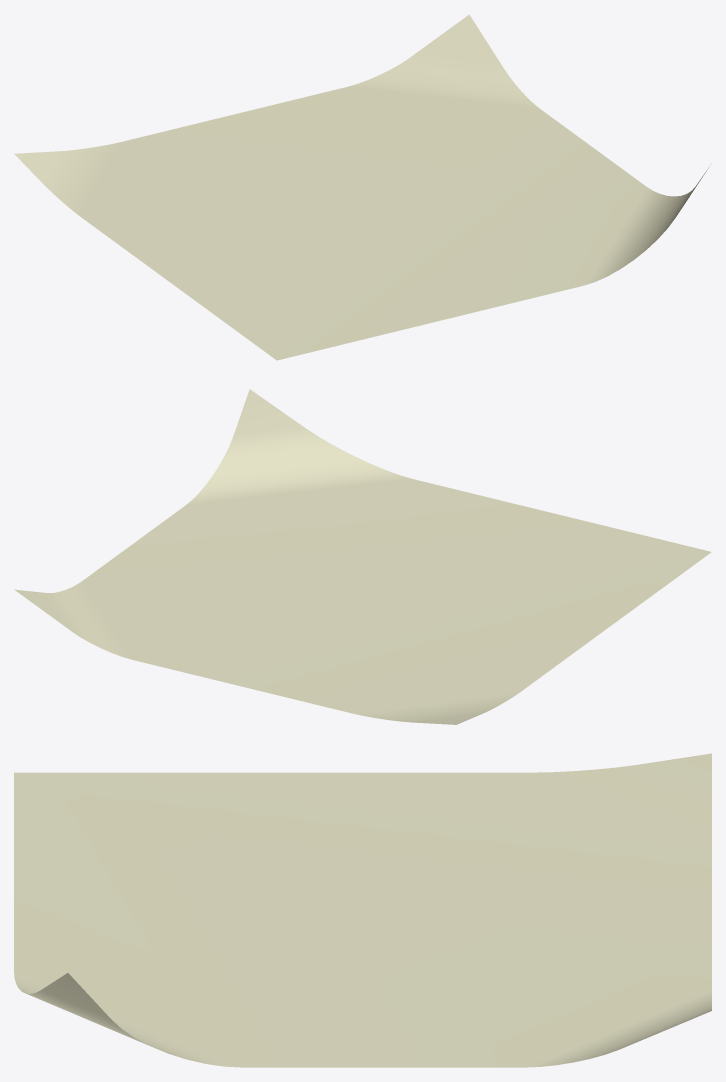
The model's file is Paper.fbx.
3 renders of one model, top to bottom at view 1: azimuth 30°, elevation 25°; view 2: azimuth 150°, elevation 25°; view 3: azimuth 270°, elevation 25°, orthographic. The views are drawn at different scales.
Visible parts, largest first — view 1: Paper; view 2: Paper; view 3: Paper.
Part boxes in pixels (x1,y1,x2,y2): Paper: [14, 14, 708, 360]; Paper: [14, 389, 711, 724]; Paper: [14, 753, 711, 1067].
Bounding box in the file's own units: 226 × 33.93 × 226.
